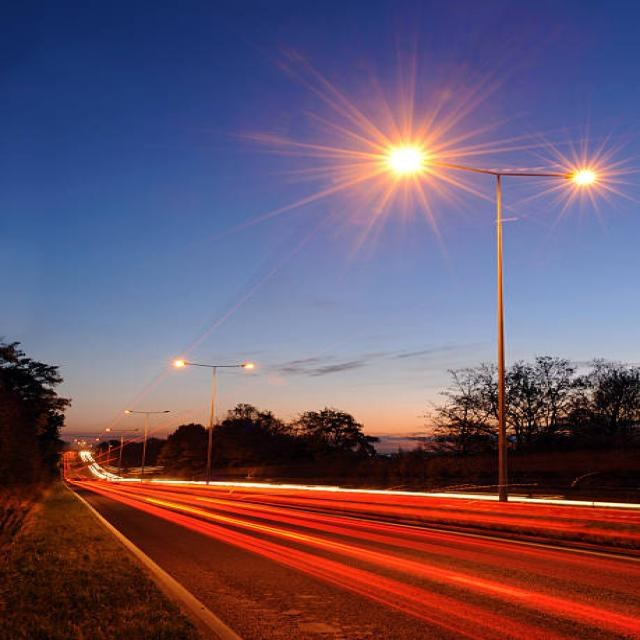acesa: (282, 46, 469, 234), (540, 132, 632, 214)
